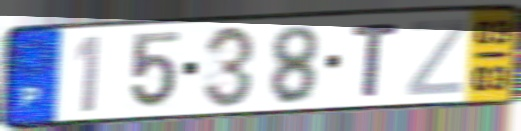1: (74, 33, 102, 116)
3: (202, 23, 257, 112)
5: (129, 31, 185, 112)
8: (267, 22, 322, 106)
T: (349, 20, 402, 100)
Z: (404, 16, 470, 98)
